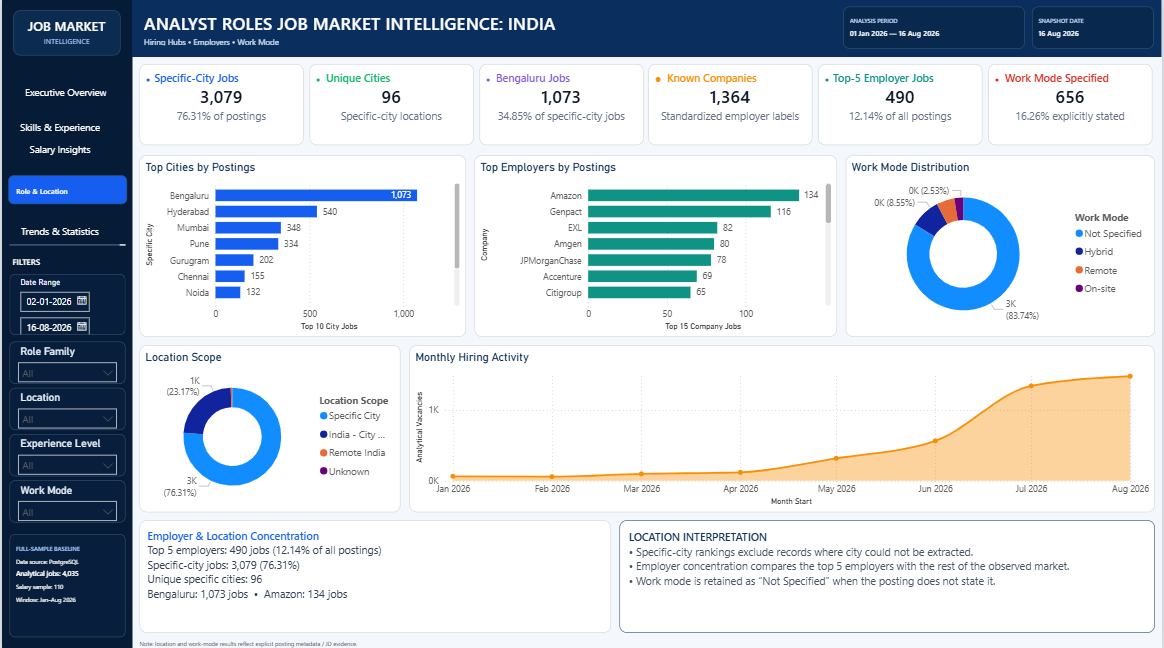

What the dashboard file says about the page in this screenshot:
{"tool":"powerbi","page":{"name":"Role & Location ","canvas":[1600,900],"ordinal":3},"visuals":[{"type":"textbox","box":[0,0,180,900],"z":0},{"type":"textbox","box":[16,16,148,62],"z":1000},{"type":"textbox","box":[8,243,164,40],"z":2000},{"type":"textbox","box":[10,338,160,2],"z":3000},{"type":"textbox","box":[10,348,160,28],"z":4000},{"type":"slicer","fields":{"Values":["Jobs.Posted Date"]},"box":[10,380,160,84],"z":5000},{"type":"slicer","fields":{"Values":["Jobs.Role Family"]},"box":[10,472,160,58],"z":6000},{"type":"slicer","fields":{"Values":["Jobs.Specific City"]},"box":[10,536,160,58],"z":7000},{"type":"slicer","fields":{"Values":["Jobs.Experience Band"]},"box":[10,600,160,58],"z":8000},{"type":"slicer","fields":{"Values":["Jobs.Work Mode"]},"box":[10,664,160,58],"z":9000},{"type":"textbox","box":[10,738,160,142],"z":10000},{"type":"textbox","box":[180,0,1420,80],"z":11000},{"type":"textbox","box":[1160,10,250,58],"z":12000},{"type":"textbox","box":[1420,10,168,58],"z":13000},{"type":"textbox","box":[190,90,226,112],"z":14000},{"type":"textbox","box":[424,90,226,112],"z":15000},{"type":"textbox","box":[658,90,226,112],"z":16000},{"type":"textbox","box":[892,90,226,112],"z":17000},{"type":"textbox","box":[1126,90,226,112],"z":18000},{"type":"textbox","box":[1360,90,226,112],"z":19000},{"type":"barChart","title":"Top Cities by Postings","fields":{"Category":["Jobs.Specific City"],"Y":["Jobs.Top 10 City Jobs"]},"box":[190,215,450,250],"z":20000},{"type":"barChart","title":"Top Employers by Postings","fields":{"Category":["Jobs.Company"],"Y":["Jobs.Top 15 Company Jobs"]},"box":[652,215,500,250],"z":21000},{"type":"donutChart","title":"Work Mode Distribution","fields":{"Category":["Jobs.Work Mode"],"Y":["Jobs.Analytical Vacancies"]},"box":[1164,215,426,250],"z":22000},{"type":"donutChart","title":"Location Scope","fields":{"Category":["Jobs.Location Scope"],"Y":["Jobs.Analytical Vacancies"]},"box":[190,477,360,230],"z":23000},{"type":"lineChart","title":"Monthly Hiring Activity","fields":{"Category":["Jobs.Month Start"],"Y":["Jobs.Analytical Vacancies"]},"box":[562,477,1028,230],"z":24000},{"type":"textbox","box":[190,719,650,155],"z":25000},{"type":"textbox","box":[852,719,738,155],"z":26000},{"type":"textbox","box":[190,878,1400,18],"z":27000},{"type":"actionButton","box":[0,112,176,32],"z":28000},{"type":"actionButton","box":[0,160,160,32],"z":29000},{"type":"actionButton","box":[0,192,160,32],"z":30000},{"type":"actionButton","box":[0,304,160,32],"z":31000}]}

Visuals, with their boxes on the page's 1600x900 design canvas (x1, y1, x2, y2). These are canvas units, not pixel positions in the 1164x648 screenshot, which may show the page scaled, cropped or inside an application window:
textbox: 0, 0, 180, 900
textbox: 16, 16, 164, 78
textbox: 8, 243, 172, 283
textbox: 10, 338, 170, 340
textbox: 10, 348, 170, 376
slicer - Jobs.Posted Date: 10, 380, 170, 464
slicer - Jobs.Role Family: 10, 472, 170, 530
slicer - Jobs.Specific City: 10, 536, 170, 594
slicer - Jobs.Experience Band: 10, 600, 170, 658
slicer - Jobs.Work Mode: 10, 664, 170, 722
textbox: 10, 738, 170, 880
textbox: 180, 0, 1600, 80
textbox: 1160, 10, 1410, 68
textbox: 1420, 10, 1588, 68
textbox: 190, 90, 416, 202
textbox: 424, 90, 650, 202
textbox: 658, 90, 884, 202
textbox: 892, 90, 1118, 202
textbox: 1126, 90, 1352, 202
textbox: 1360, 90, 1586, 202
"Top Cities by Postings" barChart: 190, 215, 640, 465
"Top Employers by Postings" barChart: 652, 215, 1152, 465
"Work Mode Distribution" donutChart: 1164, 215, 1590, 465
"Location Scope" donutChart: 190, 477, 550, 707
"Monthly Hiring Activity" lineChart: 562, 477, 1590, 707
textbox: 190, 719, 840, 874
textbox: 852, 719, 1590, 874
textbox: 190, 878, 1590, 896
actionButton: 0, 112, 176, 144
actionButton: 0, 160, 160, 192
actionButton: 0, 192, 160, 224
actionButton: 0, 304, 160, 336
